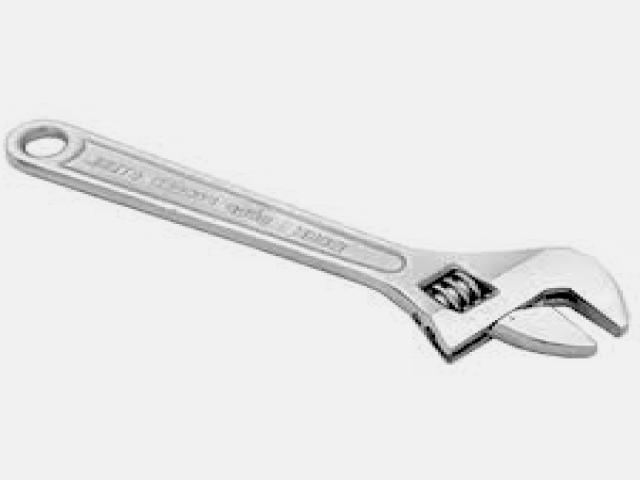Adjustable spanner: (8, 121, 628, 360)
